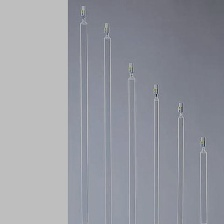light_bulb: (78, 3, 90, 223), (102, 19, 113, 224), (126, 60, 139, 224), (151, 83, 162, 224), (175, 99, 187, 224), (195, 133, 210, 224)
